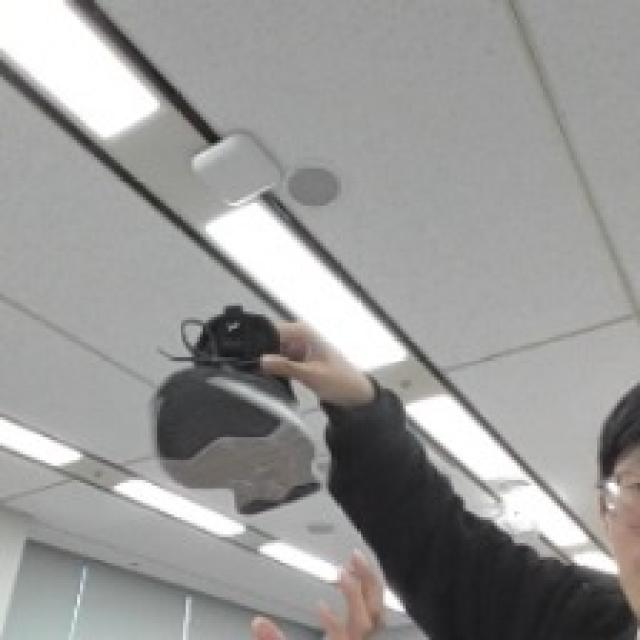shoe: (144, 294, 322, 506)
